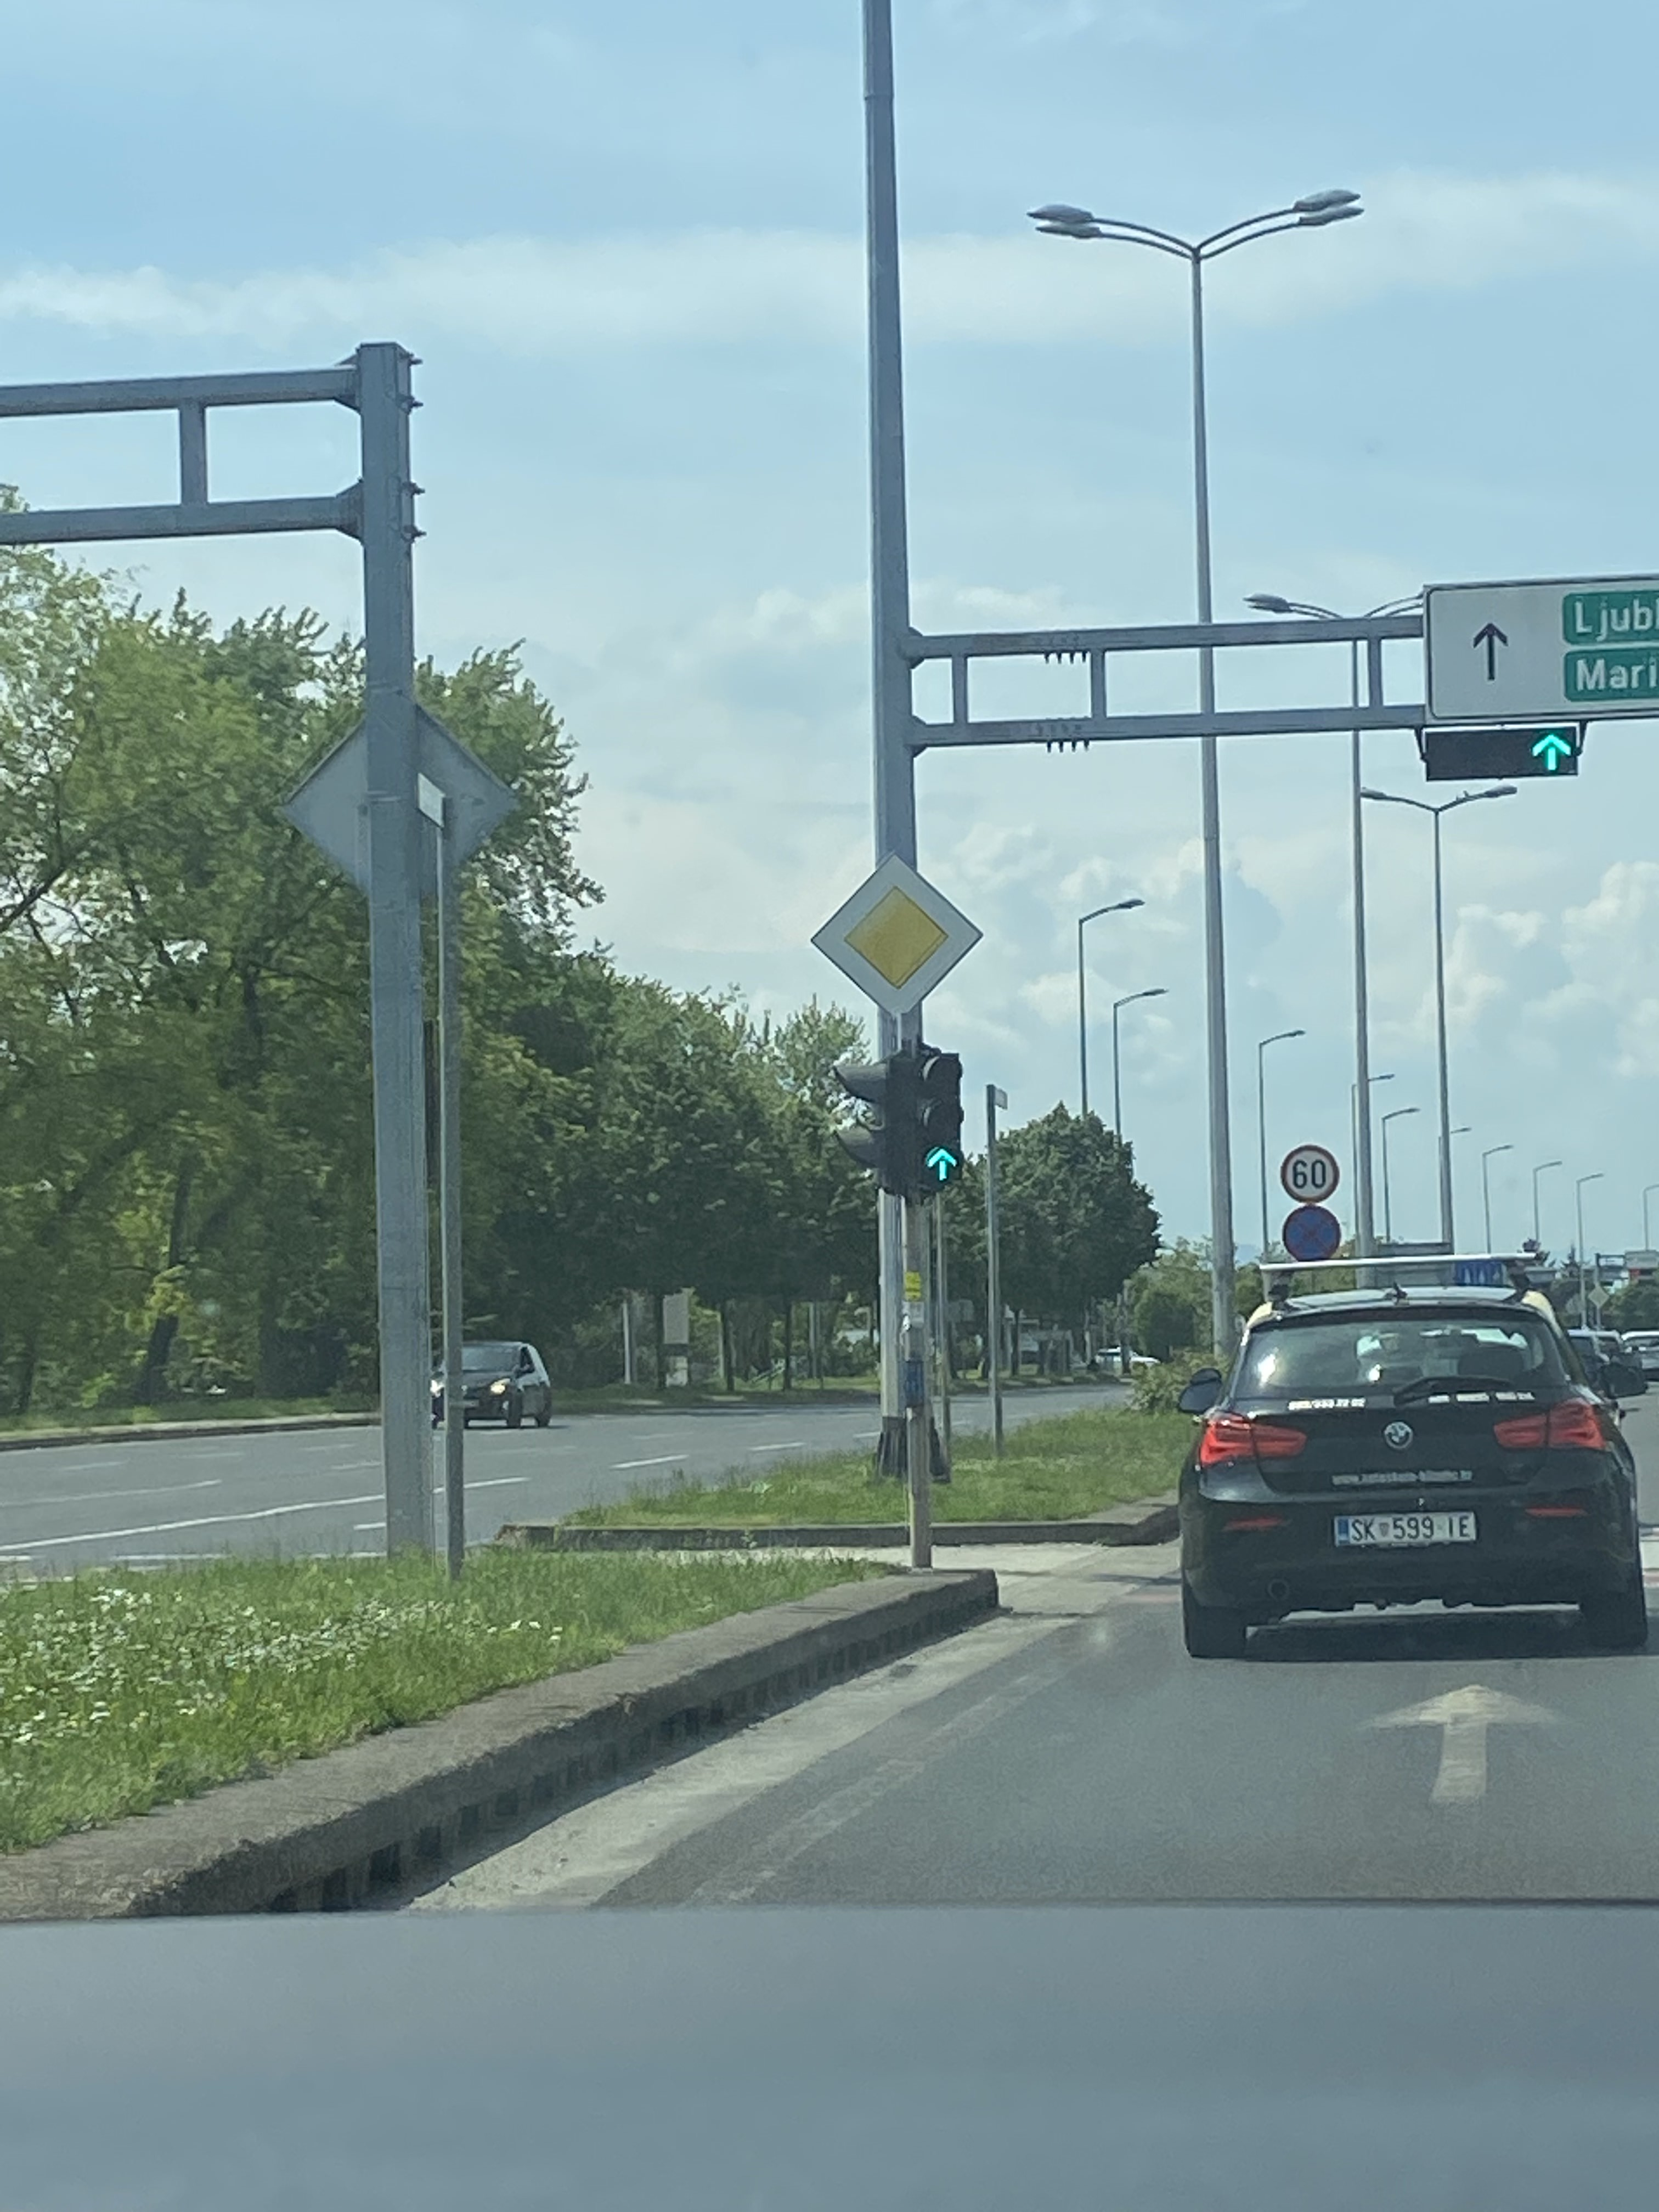Cesta s prednošću prolaska: (810, 852, 983, 1019)
Ograničenje brzine 60: (1281, 1144, 1340, 1202)
